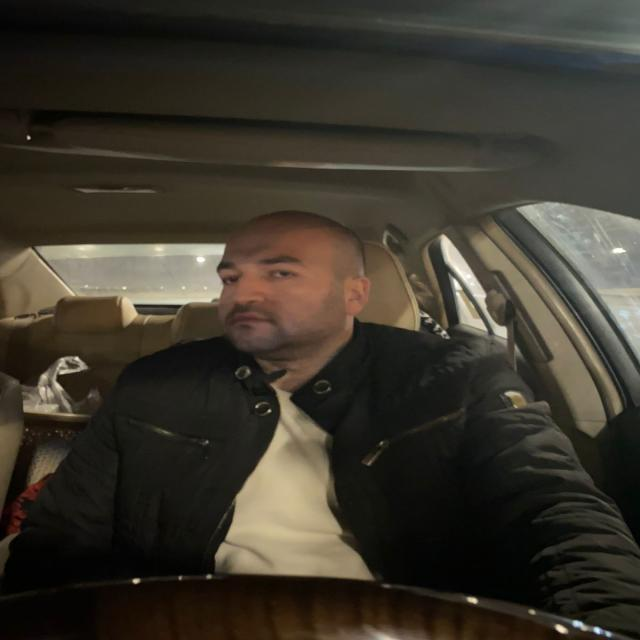person: (208, 208, 380, 362)
